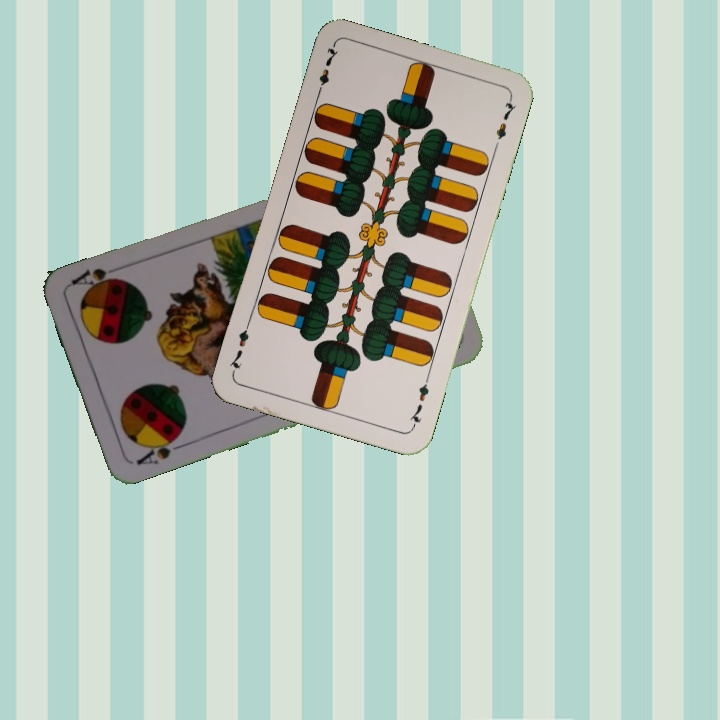E7: (312, 42, 341, 100), (405, 372, 432, 431)
SA: (132, 430, 186, 468)
